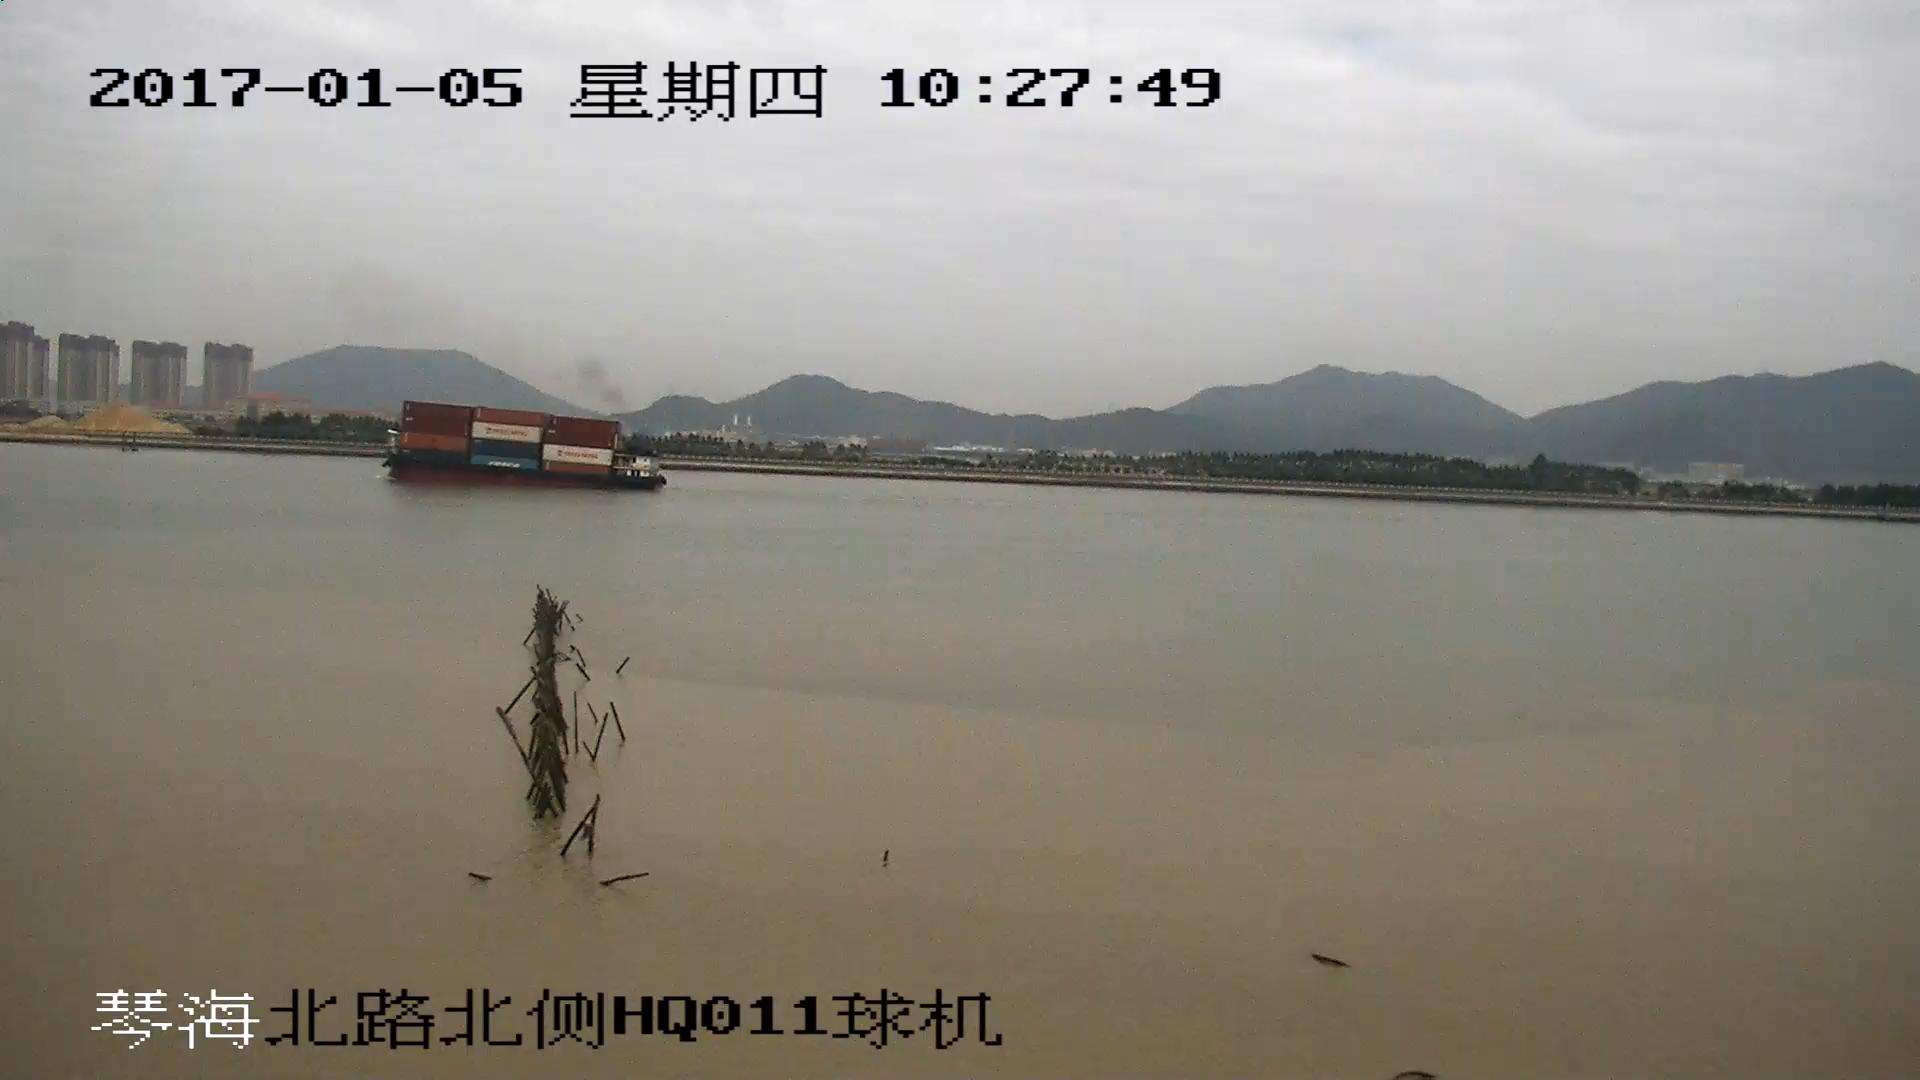container ship: (383, 398, 666, 489)
